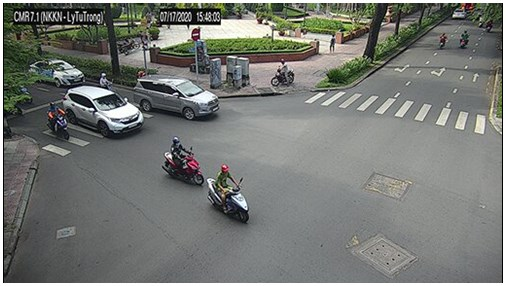di_bo: (329, 35, 337, 54)
xe_hoi: (63, 86, 145, 136), (135, 74, 220, 119), (28, 59, 87, 88), (452, 8, 467, 19)
xe_may: (206, 164, 249, 222), (163, 136, 204, 186), (46, 102, 71, 141), (270, 58, 294, 87), (15, 80, 34, 105), (118, 34, 142, 52), (98, 73, 113, 92), (460, 30, 469, 50), (437, 33, 447, 50), (485, 20, 492, 32), (478, 15, 483, 27)
